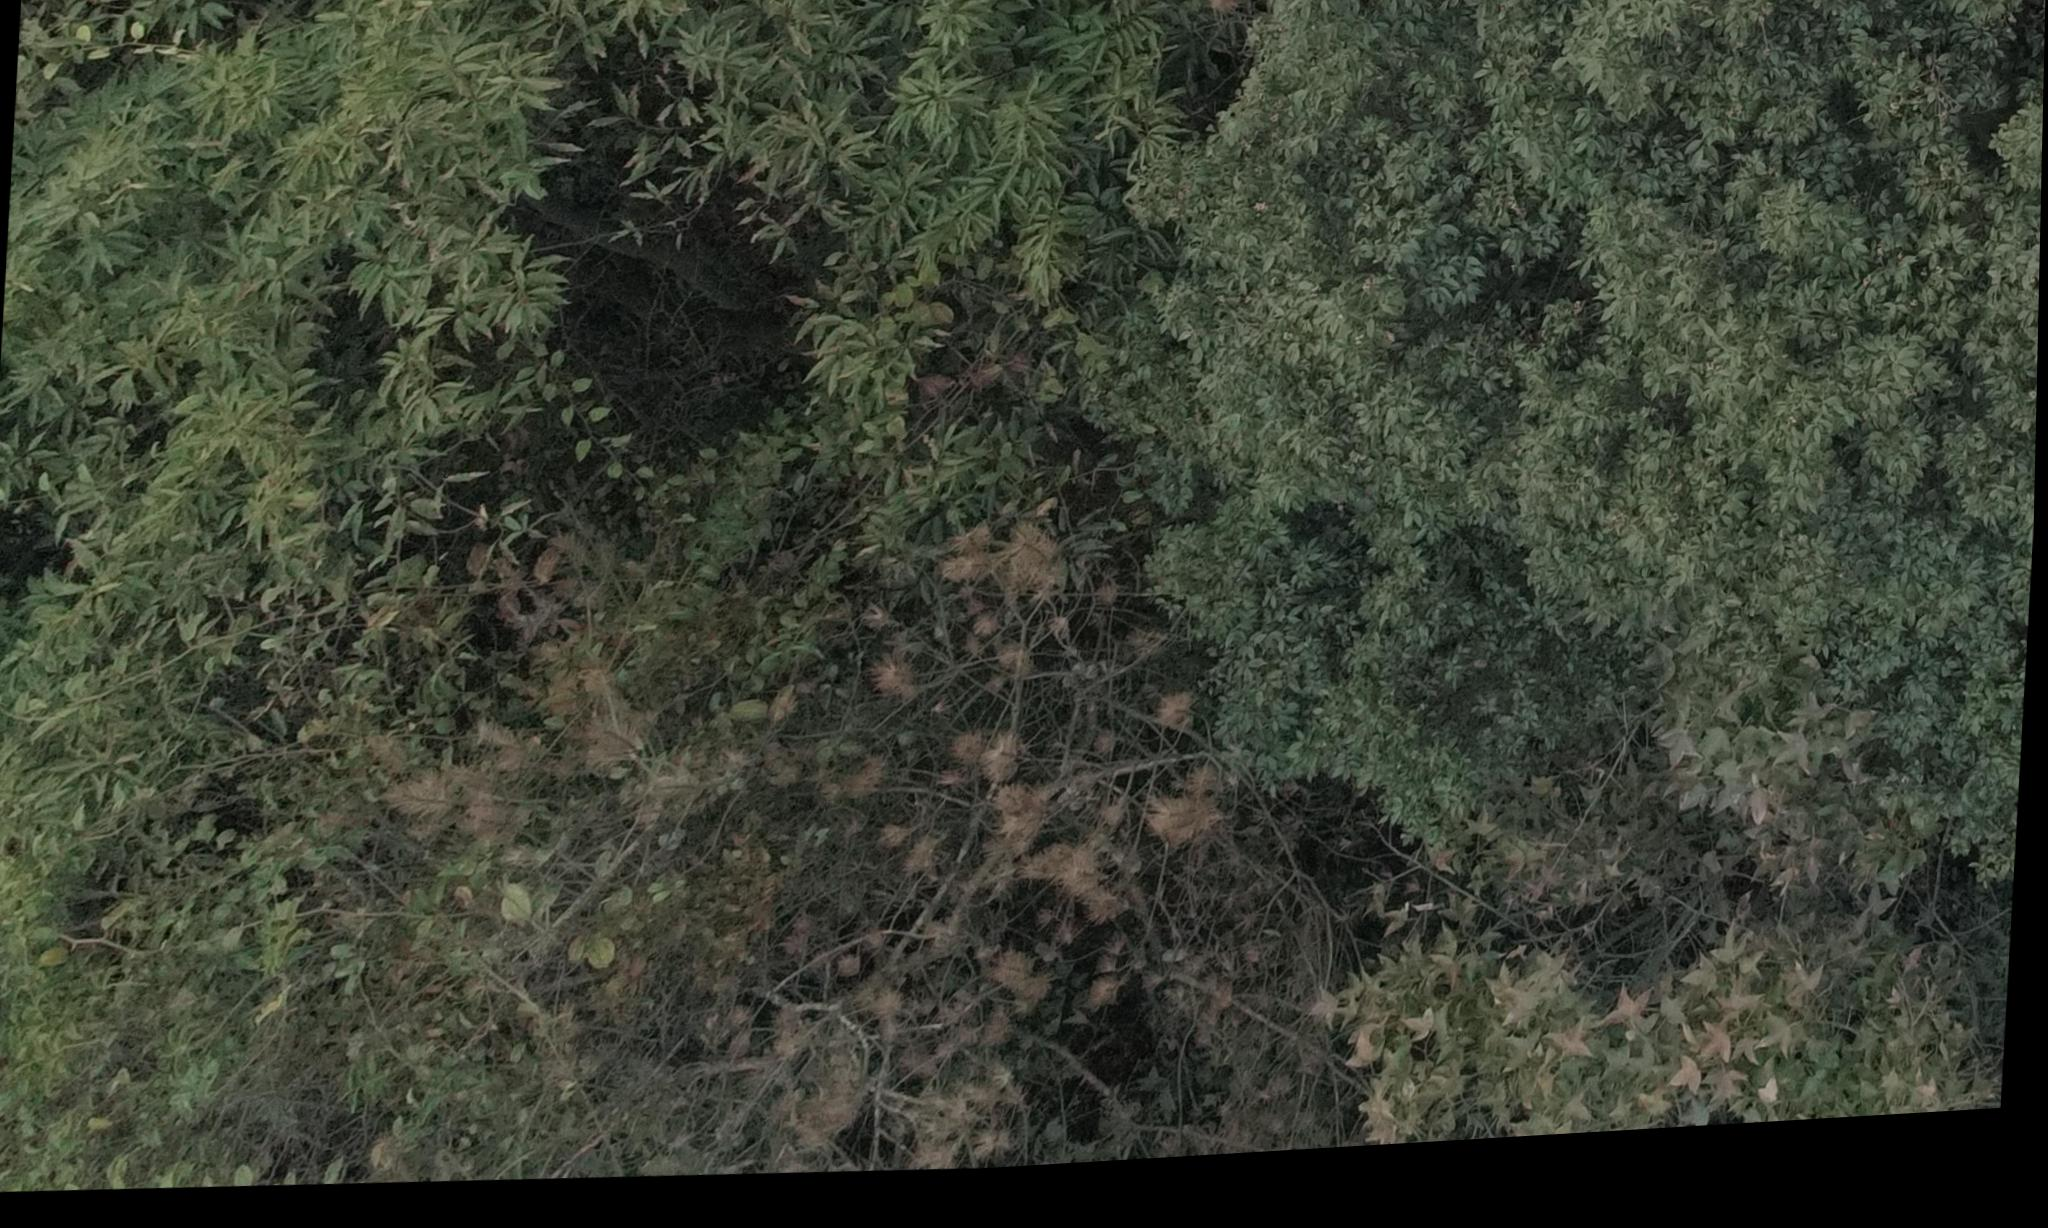heavy: (750, 507, 1196, 1172)
